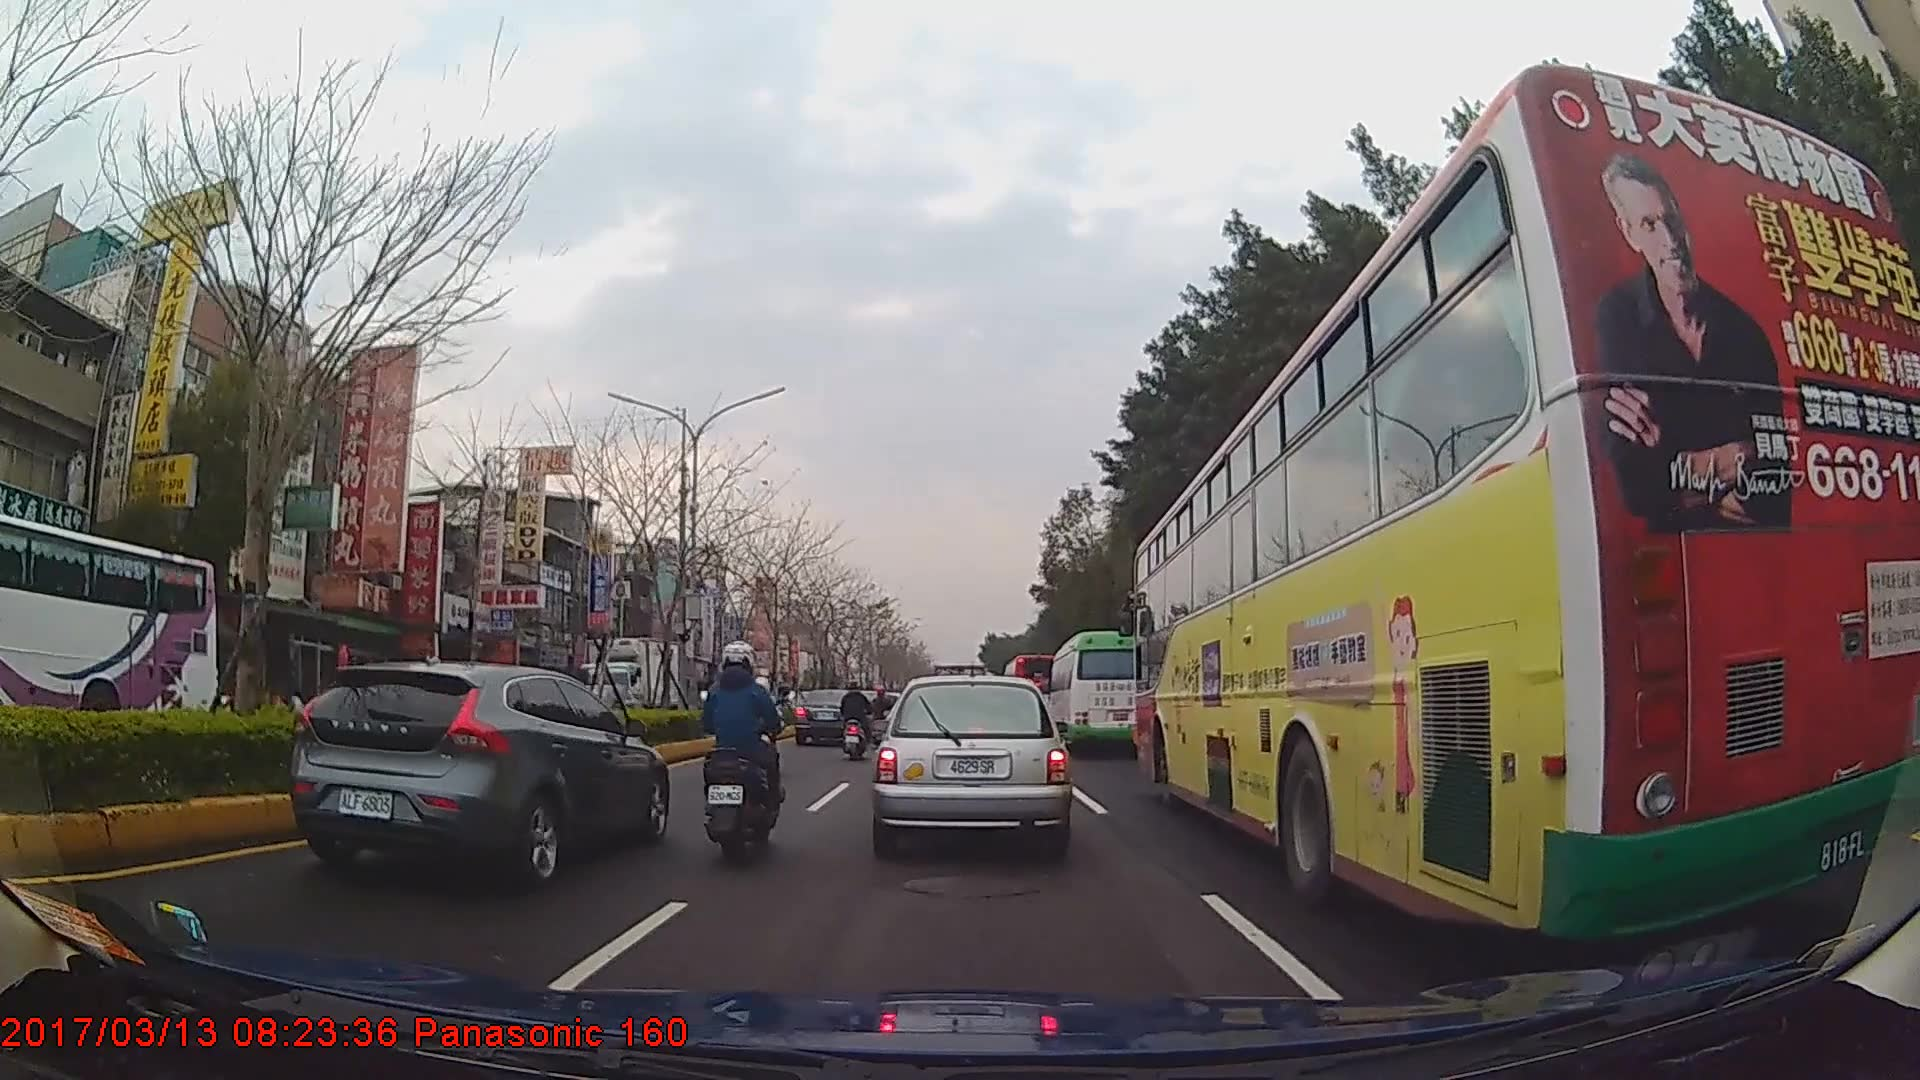rider: (699, 636, 786, 853), (739, 668, 782, 774), (840, 678, 876, 754), (869, 687, 895, 742)
vehicle: (1133, 56, 1920, 945), (292, 658, 670, 884), (0, 510, 217, 752), (874, 670, 1072, 852), (559, 627, 695, 747), (1047, 628, 1163, 754), (1001, 649, 1062, 724), (795, 685, 871, 744)
